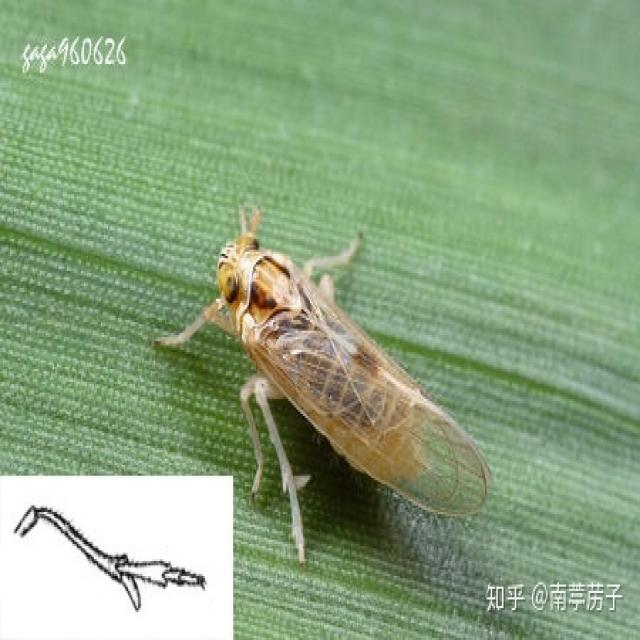Yechan: (187, 196, 498, 518)
